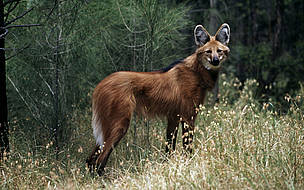LoboGuara: (85, 19, 231, 170)
